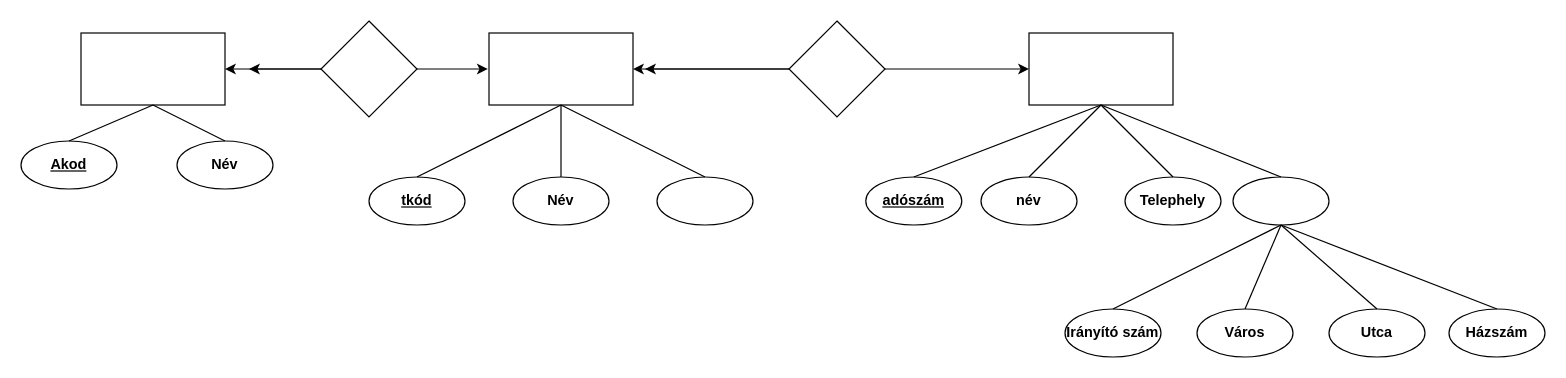
Some shapes in this 1566 by 378 pixel diagram are drawn without their labels. Here are the shapes that lost their labels. From the top down, the box of each, then its label:
(80, 32, 225, 105): Alkatrész
(488, 32, 633, 105): Termék
(1028, 32, 1173, 105): Gyártó
(656, 176, 753, 225): ear
(1232, 176, 1329, 225): Posta cím
